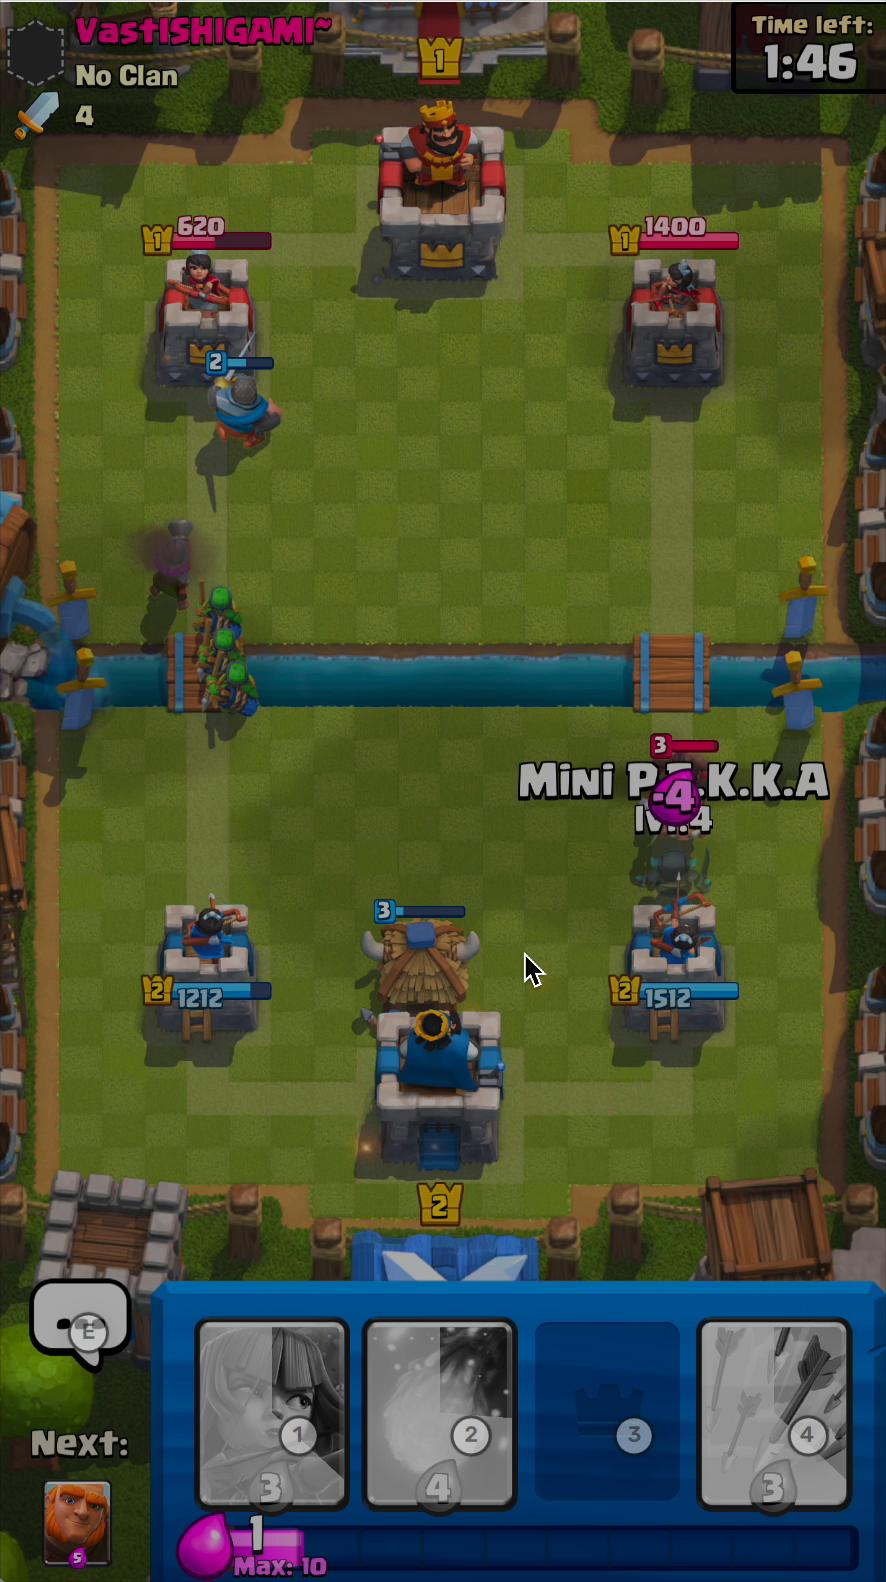chevalier: (199, 334, 288, 453)
gobelin_lances: (198, 657, 264, 723), (189, 574, 245, 643), (197, 626, 242, 677)
mini_PEKKA: (627, 846, 716, 907)
mousquetaire: (142, 516, 196, 612)
